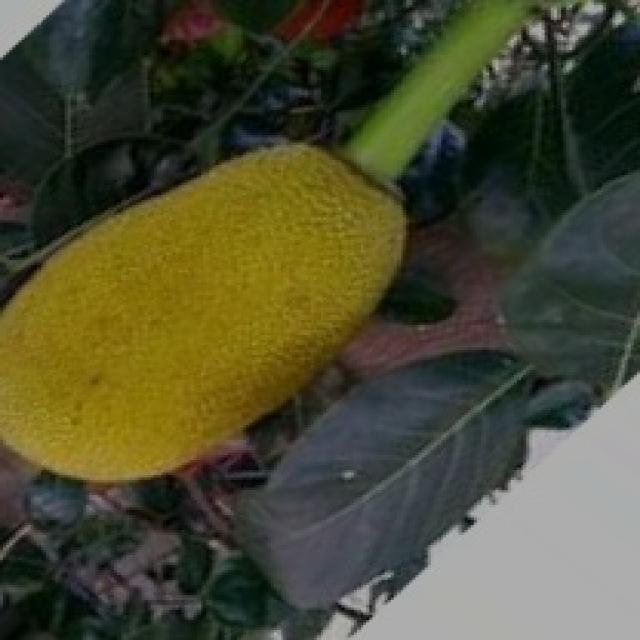Fruit: (0, 110, 431, 495)
